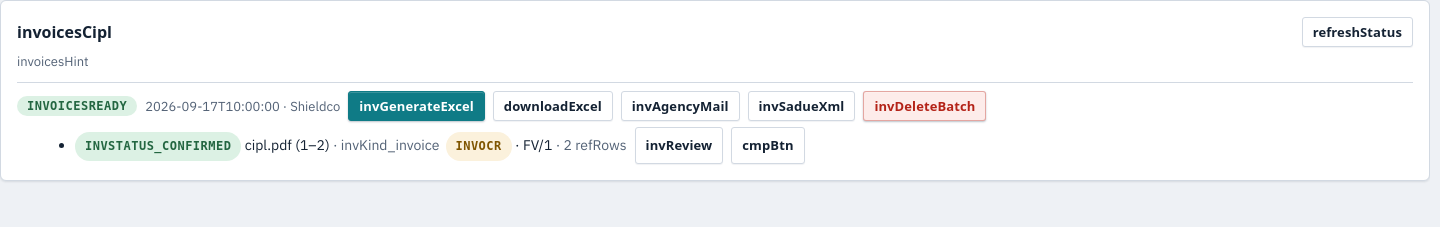
Test case: InvoiceBatchesPanel › XML do WinSAD: pobiera SAD_<kontener>.xml, 409 pokazany w panelu
Click the button "invSadueXml" at (801, 106), box [748,91,855,121]
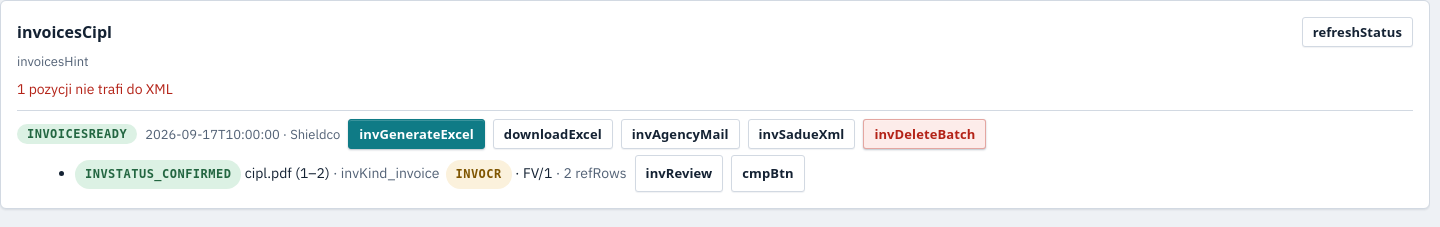
expect the text "1 pozycji nie trafi do XML" is shown: met, box [17,80,173,98]
